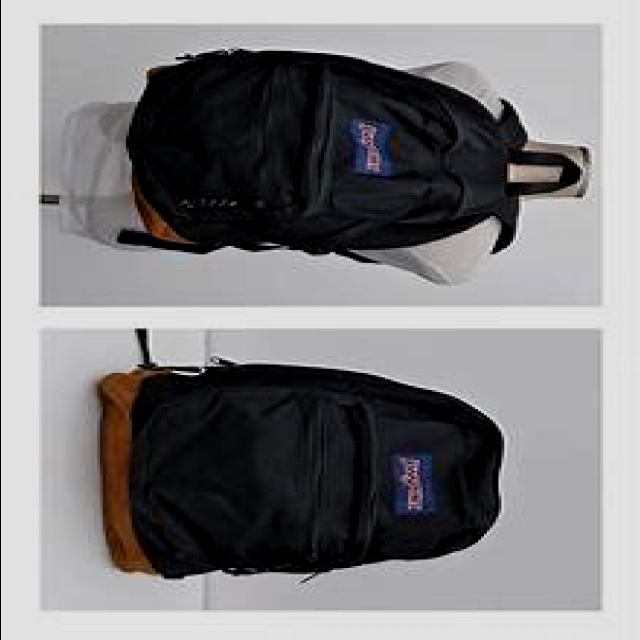backpack: (121, 48, 595, 286), (100, 330, 508, 584)
